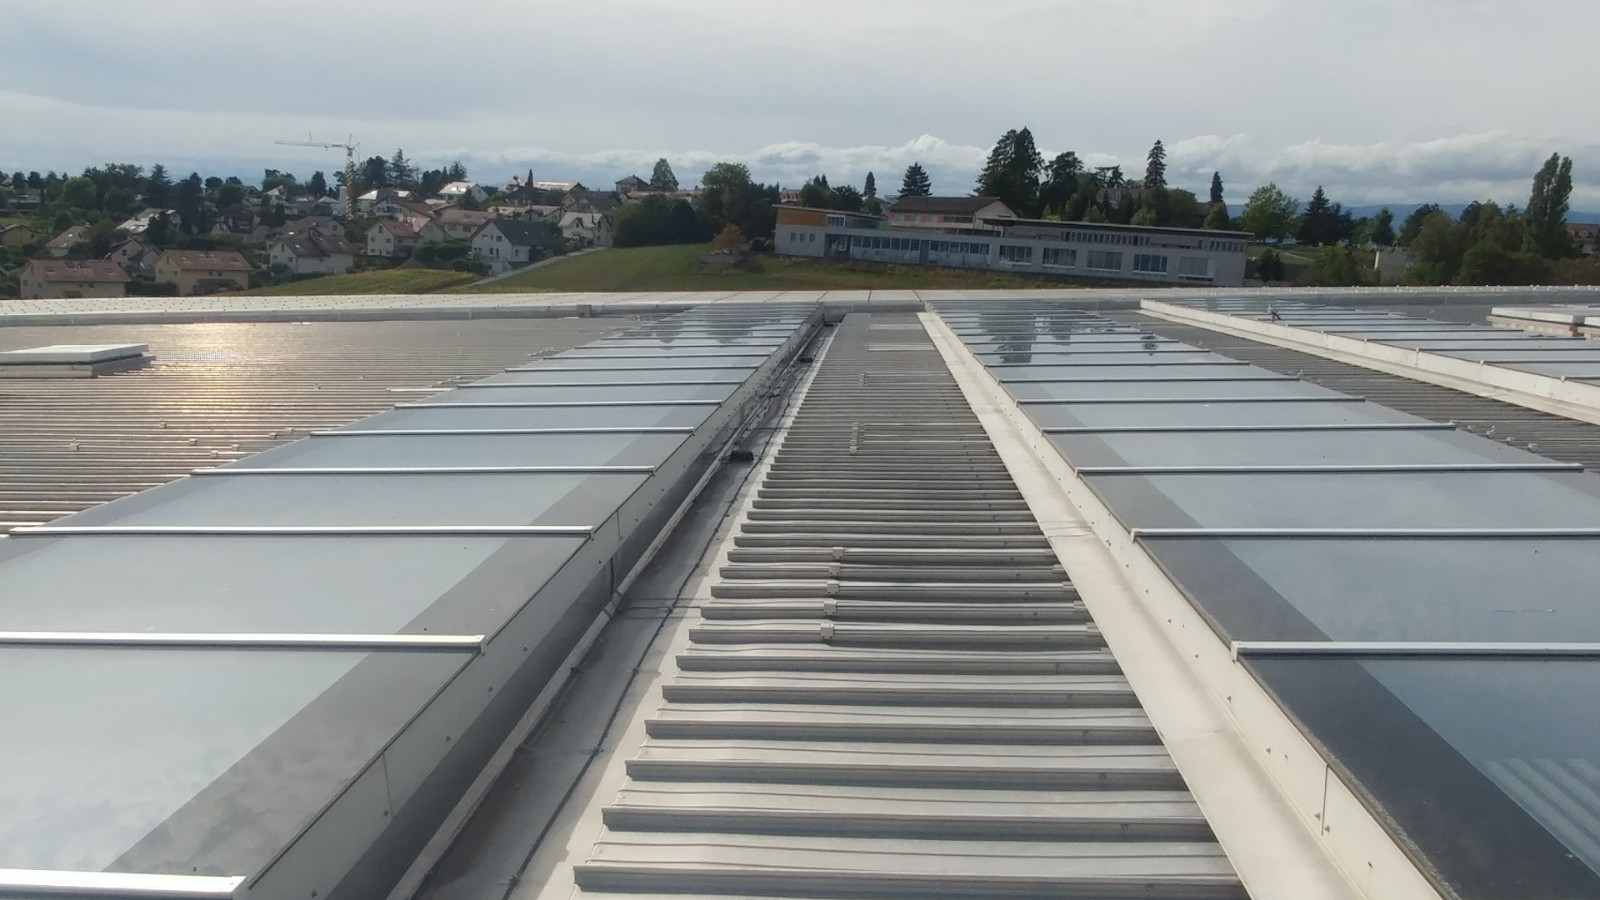Pigeon: (1263, 305, 1284, 327)
